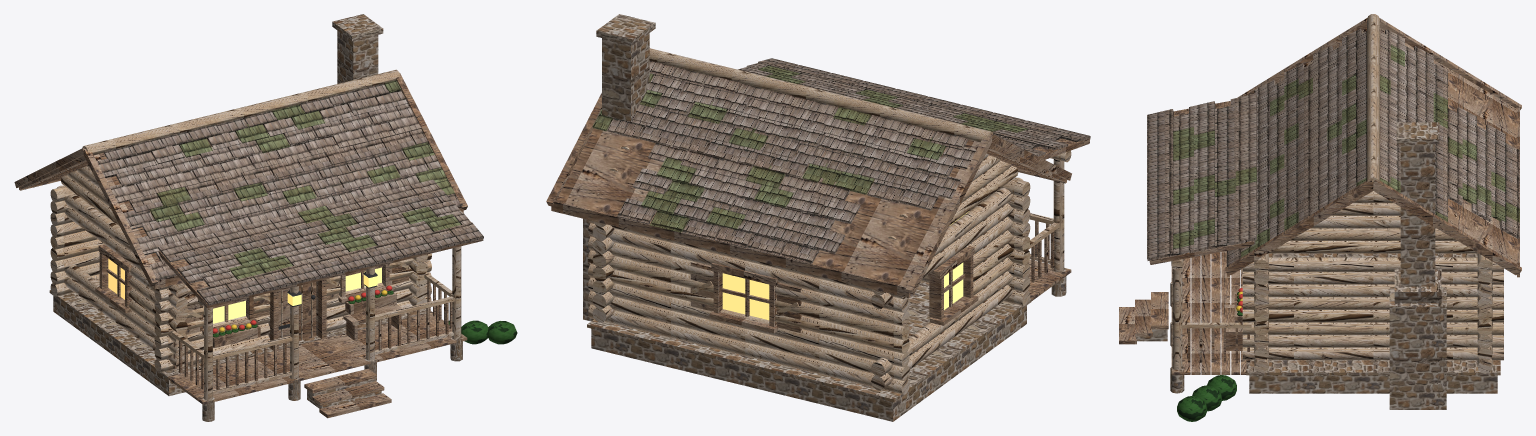
Rendered from cabana.glb.
The picture shows the model from 3 angles, left to right: view 1: azimuth 30°, elevation 25°; view 2: azimuth 150°, elevation 25°; view 3: azimuth 270°, elevation 25°; orthographic projection. The views are drawn at different scales.
Visible parts, largest first — view 1: pieza; view 2: pieza; view 3: pieza.
Part boxes in pixels (<box>): pieza: <box>14,14,517,421</box>; pieza: <box>546,14,1090,421</box>; pieza: <box>1119,14,1521,421</box>.
Size of the model in its own units: 8.69 by 5.97 by 8.11.
11 materials, 6 textured.
